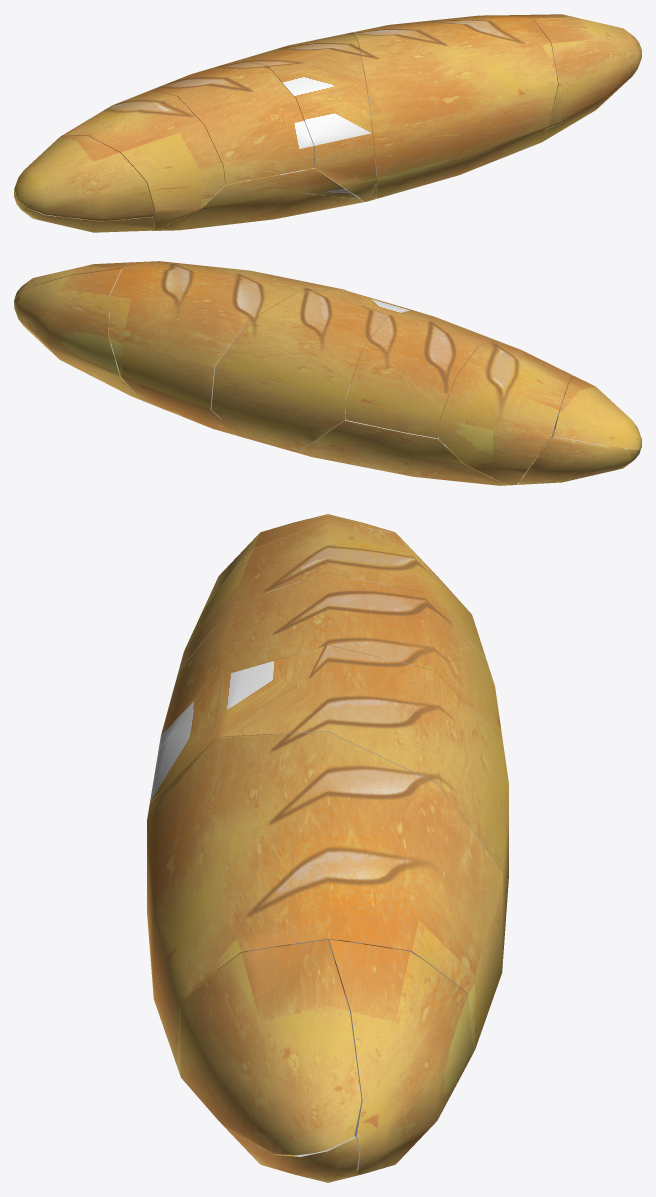
Rendered from BaguetteBreadBreak.fbx.
3 views of the same model, one above another, from view 1: azimuth 30°, elevation 25°; view 2: azimuth 150°, elevation 25°; view 3: azimuth 270°, elevation 25° (orthographic). The views are drawn at different scales.
Visible parts, largest first — view 1: BaguetteBread_cell.003, BaguetteBread_cell.002, BaguetteBread_cell.001, BaguetteBread_cell.008, BaguetteBread_cell.005, BaguetteBread_cell.006, BaguetteBread_cell, BaguetteBread_cell.004, BaguetteBread_cell.009; view 2: BaguetteBread_cell.001, BaguetteBread_cell.003, BaguetteBread_cell.008, BaguetteBread_cell.002, BaguetteBread_cell.007, BaguetteBread_cell, BaguetteBread_cell.005, BaguetteBread_cell.004, BaguetteBread_cell.006; view 3: BaguetteBread_cell.003, BaguetteBread_cell.001, BaguetteBread_cell.006, BaguetteBread_cell.002, BaguetteBread_cell.007, BaguetteBread_cell.008, BaguetteBread_cell.009, BaguetteBread_cell.005.
Boxes of the visible parts, box(x1,y1,x2,y2) form: BaguetteBread_cell.003: box(354, 15, 557, 198); BaguetteBread_cell.002: box(151, 60, 314, 184); BaguetteBread_cell.001: box(240, 32, 376, 201); BaguetteBread_cell.008: box(62, 90, 225, 229); BaguetteBread_cell.005: box(14, 135, 155, 221); BaguetteBread_cell.006: box(533, 17, 641, 128); BaguetteBread_cell: box(152, 168, 363, 230); BaguetteBread_cell.004: box(14, 177, 154, 232); BaguetteBread_cell.009: box(525, 71, 635, 148); BaguetteBread_cell.001: box(211, 290, 411, 452); BaguetteBread_cell.003: box(108, 261, 345, 435); BaguetteBread_cell.008: box(438, 341, 572, 485); BaguetteBread_cell.002: box(345, 310, 497, 438); BaguetteBread_cell.007: box(14, 268, 141, 400); BaguetteBread_cell: box(296, 420, 542, 485); BaguetteBread_cell.005: box(553, 375, 641, 449); BaguetteBread_cell.004: box(518, 435, 640, 484); BaguetteBread_cell.006: box(15, 261, 146, 297); BaguetteBread_cell.003: box(147, 731, 502, 1065); BaguetteBread_cell.001: box(150, 645, 508, 963); BaguetteBread_cell.006: box(177, 939, 361, 1154); BaguetteBread_cell.002: box(158, 573, 502, 748); BaguetteBread_cell.007: box(328, 939, 473, 1176); BaguetteBread_cell.008: box(178, 521, 485, 670); BaguetteBread_cell.009: box(226, 1128, 358, 1182); BaguetteBread_cell.005: box(203, 514, 428, 608).
Size of the model in its own units: 270 by 62.13 by 68.24.
